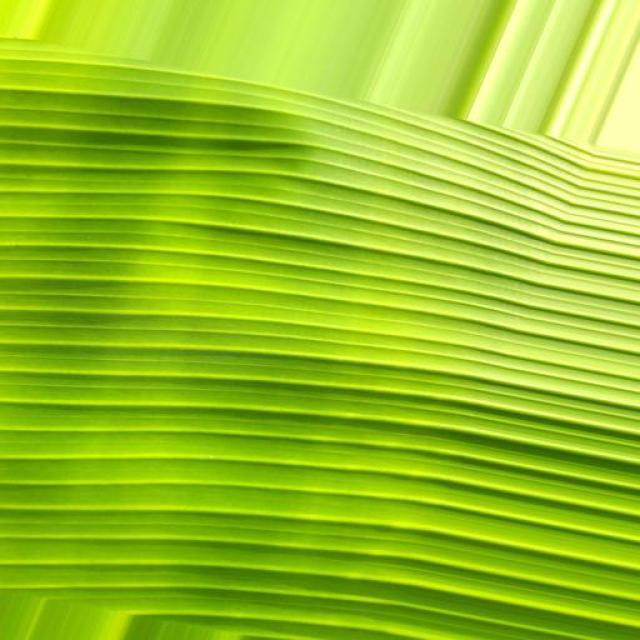Black_leaf_spot: (1, 20, 640, 624)
